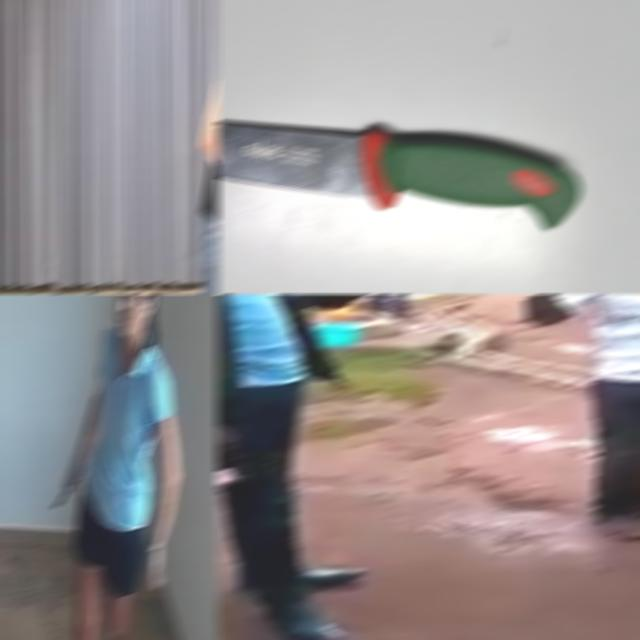Knife: (215, 120, 583, 228), (50, 483, 79, 509)
Knife_Handle: (49, 470, 83, 516)
